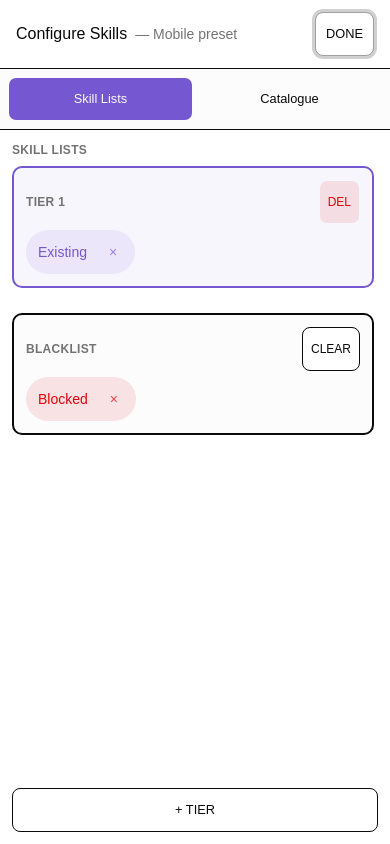
Test: SkillEditorDialog responsive presentation › gives tier, chip, filter, result, removal, and bulk controls mobile hit areas
What coordinates should you click on to do the following:
click the tab "Catalogue"
I would click on:
 (290, 99)
Its box is [197,77,382,121].
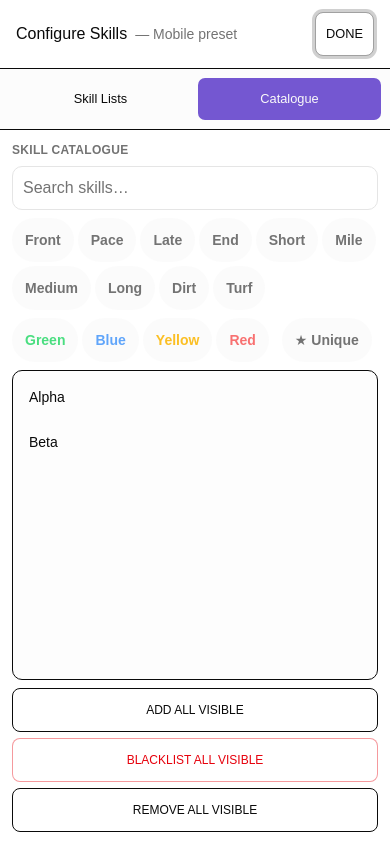
Check: the button "Alpha" is shown, box [17,375,373,419]
